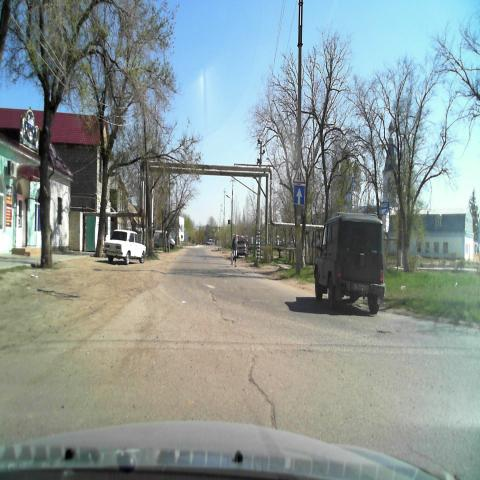1_21: (290, 165, 306, 184)
